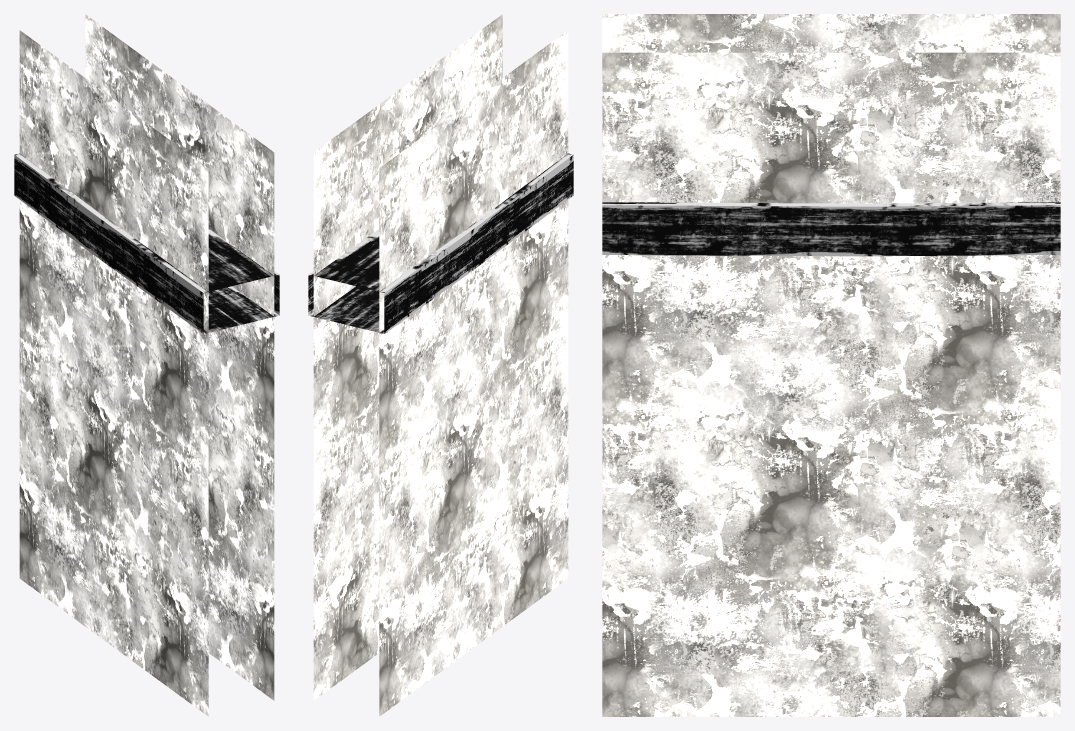
File: SM_wall_A_2-5x4_01_02.fbx
3 views of the same model, side by side, from view 1: azimuth 30°, elevation 25°; view 2: azimuth 150°, elevation 25°; view 3: azimuth 270°, elevation 25° (orthographic). The views are drawn at different scales.
Parts seen in each view (by area): view 1: SM_wall_A_2-5x4_01_02_LOD0; view 2: SM_wall_A_2-5x4_01_02_LOD0; view 3: SM_wall_A_2-5x4_01_02_LOD0.
Boxes of the visible parts, box(x1,y1,x2,y2) form: SM_wall_A_2-5x4_01_02_LOD0: box(14, 14, 279, 716); SM_wall_A_2-5x4_01_02_LOD0: box(308, 14, 573, 716); SM_wall_A_2-5x4_01_02_LOD0: box(602, 14, 1060, 716).
Size of the model in its own units: 58 by 250 by 400.
Materials: 3 (3 with a texture image).
